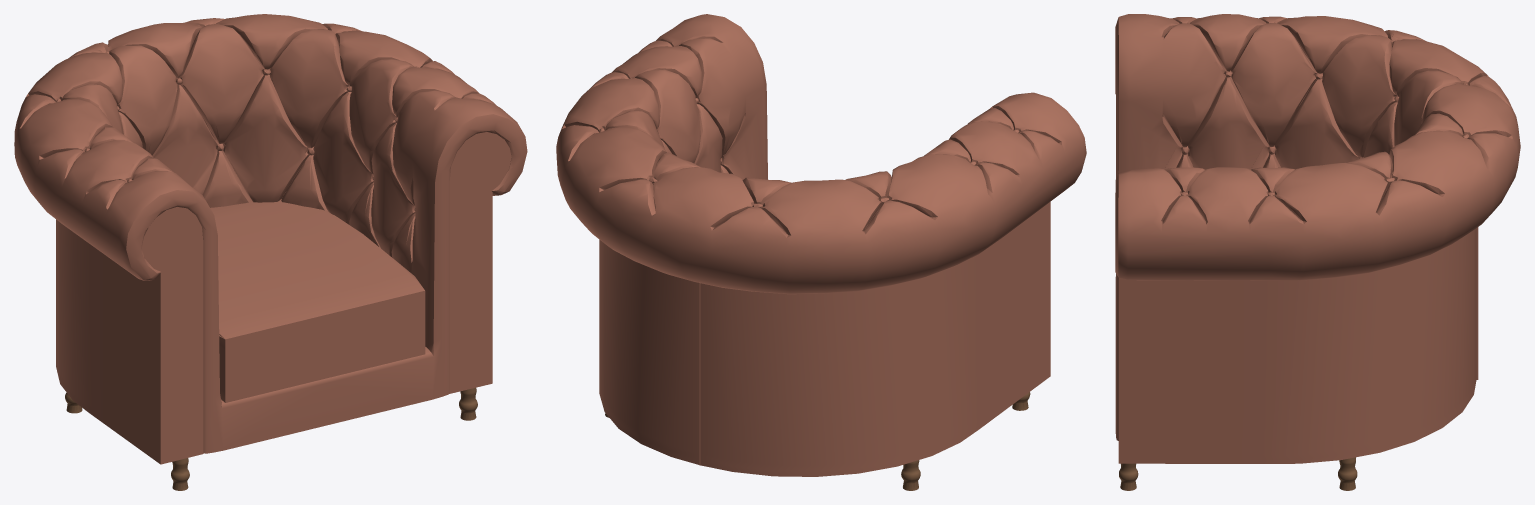
File: sh_blend_swap_cc_0_winchesterarmchair.glb
3 views of the same model, side by side, from view 1: azimuth 30°, elevation 25°; view 2: azimuth 150°, elevation 25°; view 3: azimuth 270°, elevation 25° (orthographic). The views are drawn at different scales.
Size of the model in its own units: 1.12 by 0.804 by 0.934.
